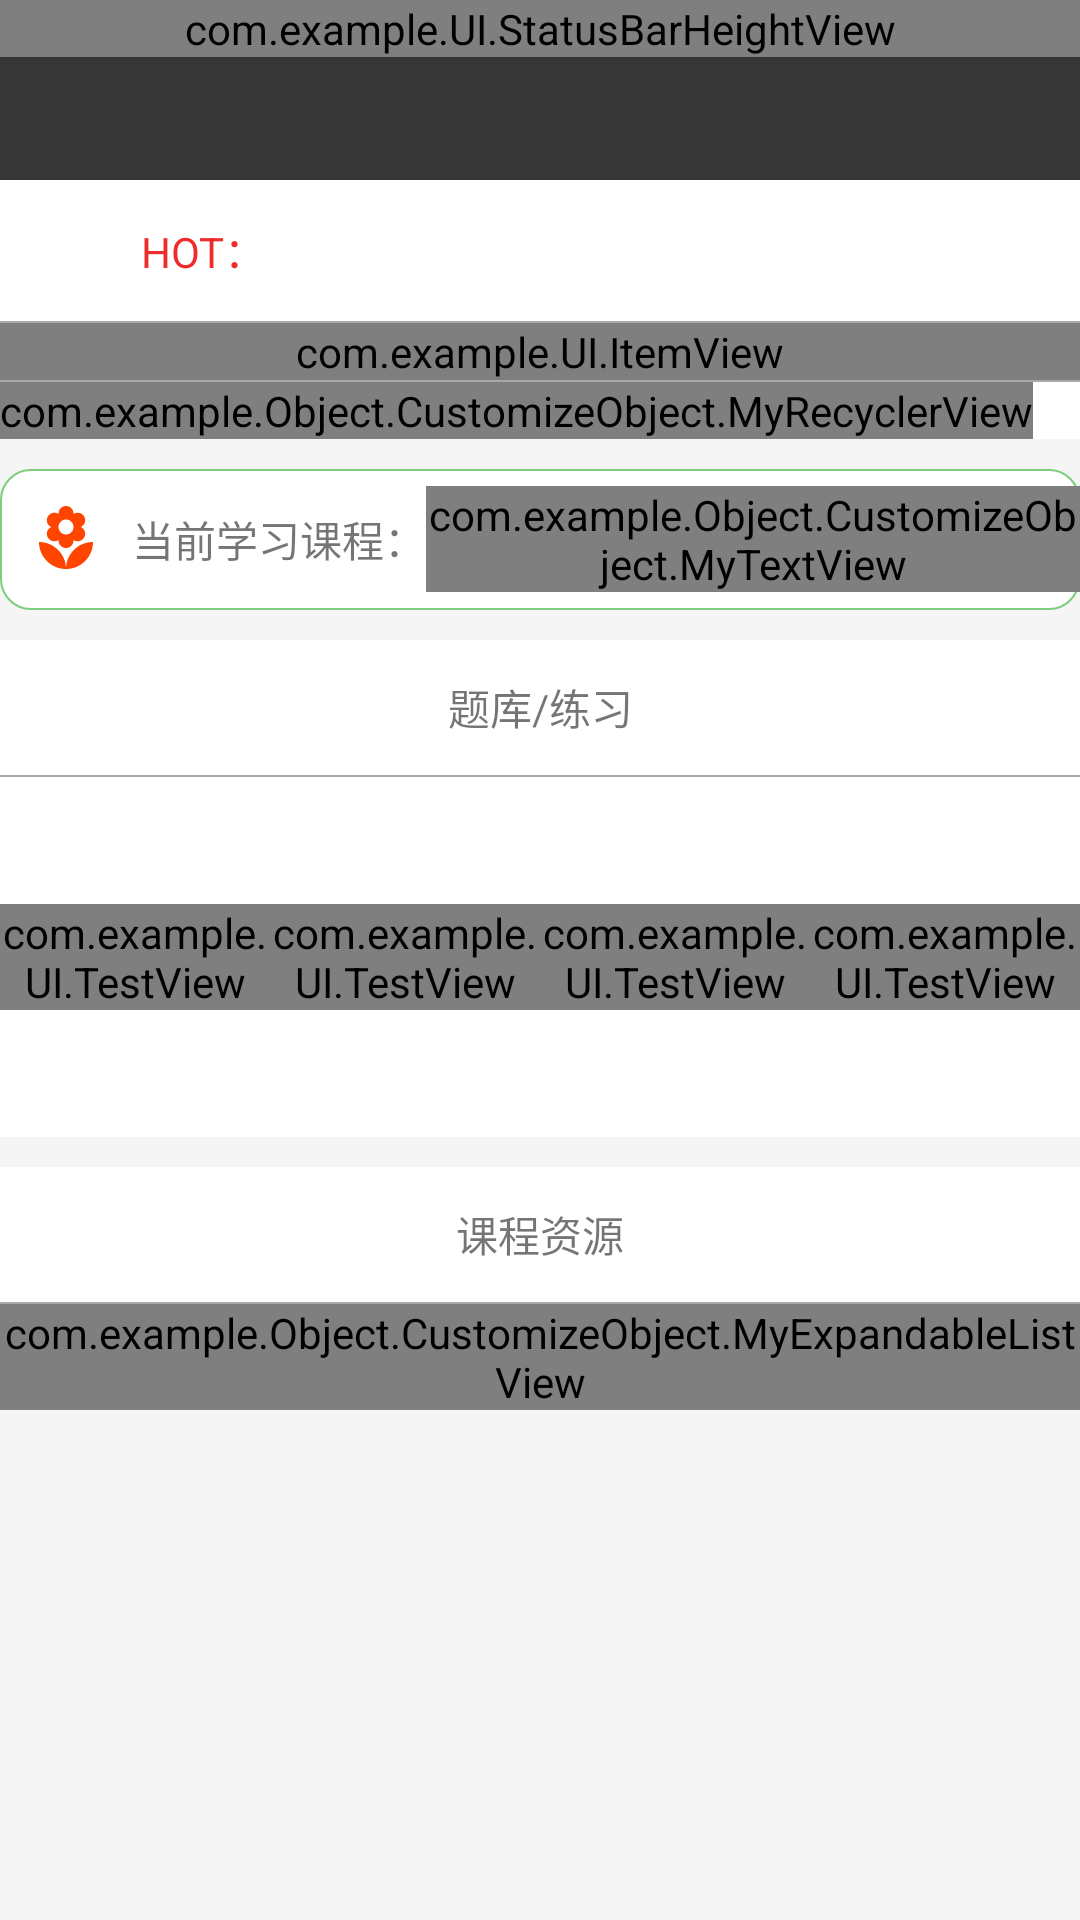

Icon bounding boxes for this 1080×1920 phone screenshot, format (x1, y1, x2, y2):
local florist: (39, 506, 93, 569)
